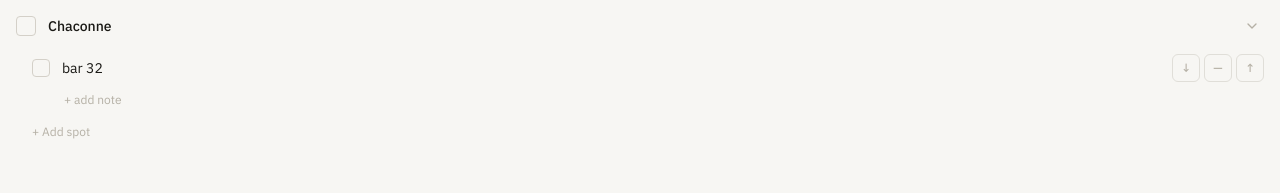
Test: voice input in a repertoire block › dictates into a per-spot note
Click the button "+ add note": coordinates (93, 100) x1=64 y1=92 x2=122 y2=108
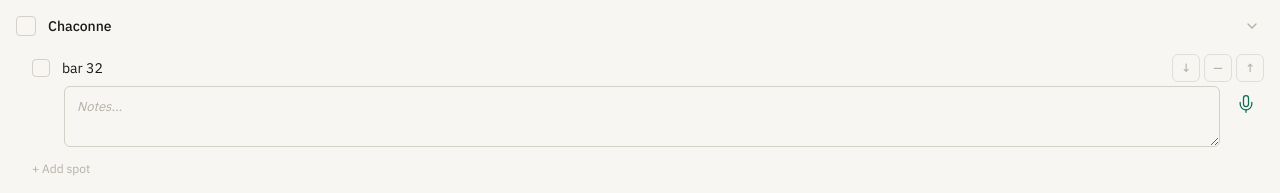
Click the button named "Dictate notes for bar 32": coordinates (1246, 104) x1=1228 y1=86 x2=1264 y2=122
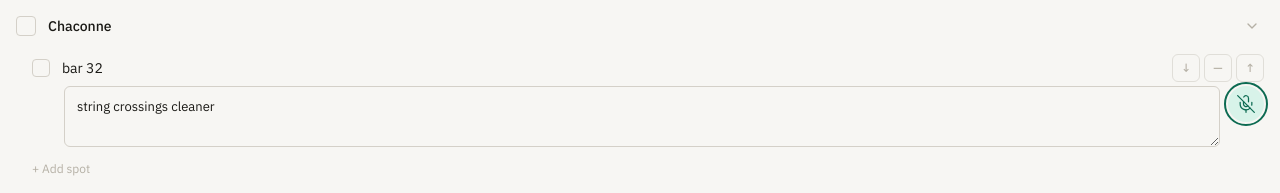
Check: the text box with placeholder "Notes..." holds "string crossings cleaner", box x1=64 y1=86 x2=1220 y2=147
